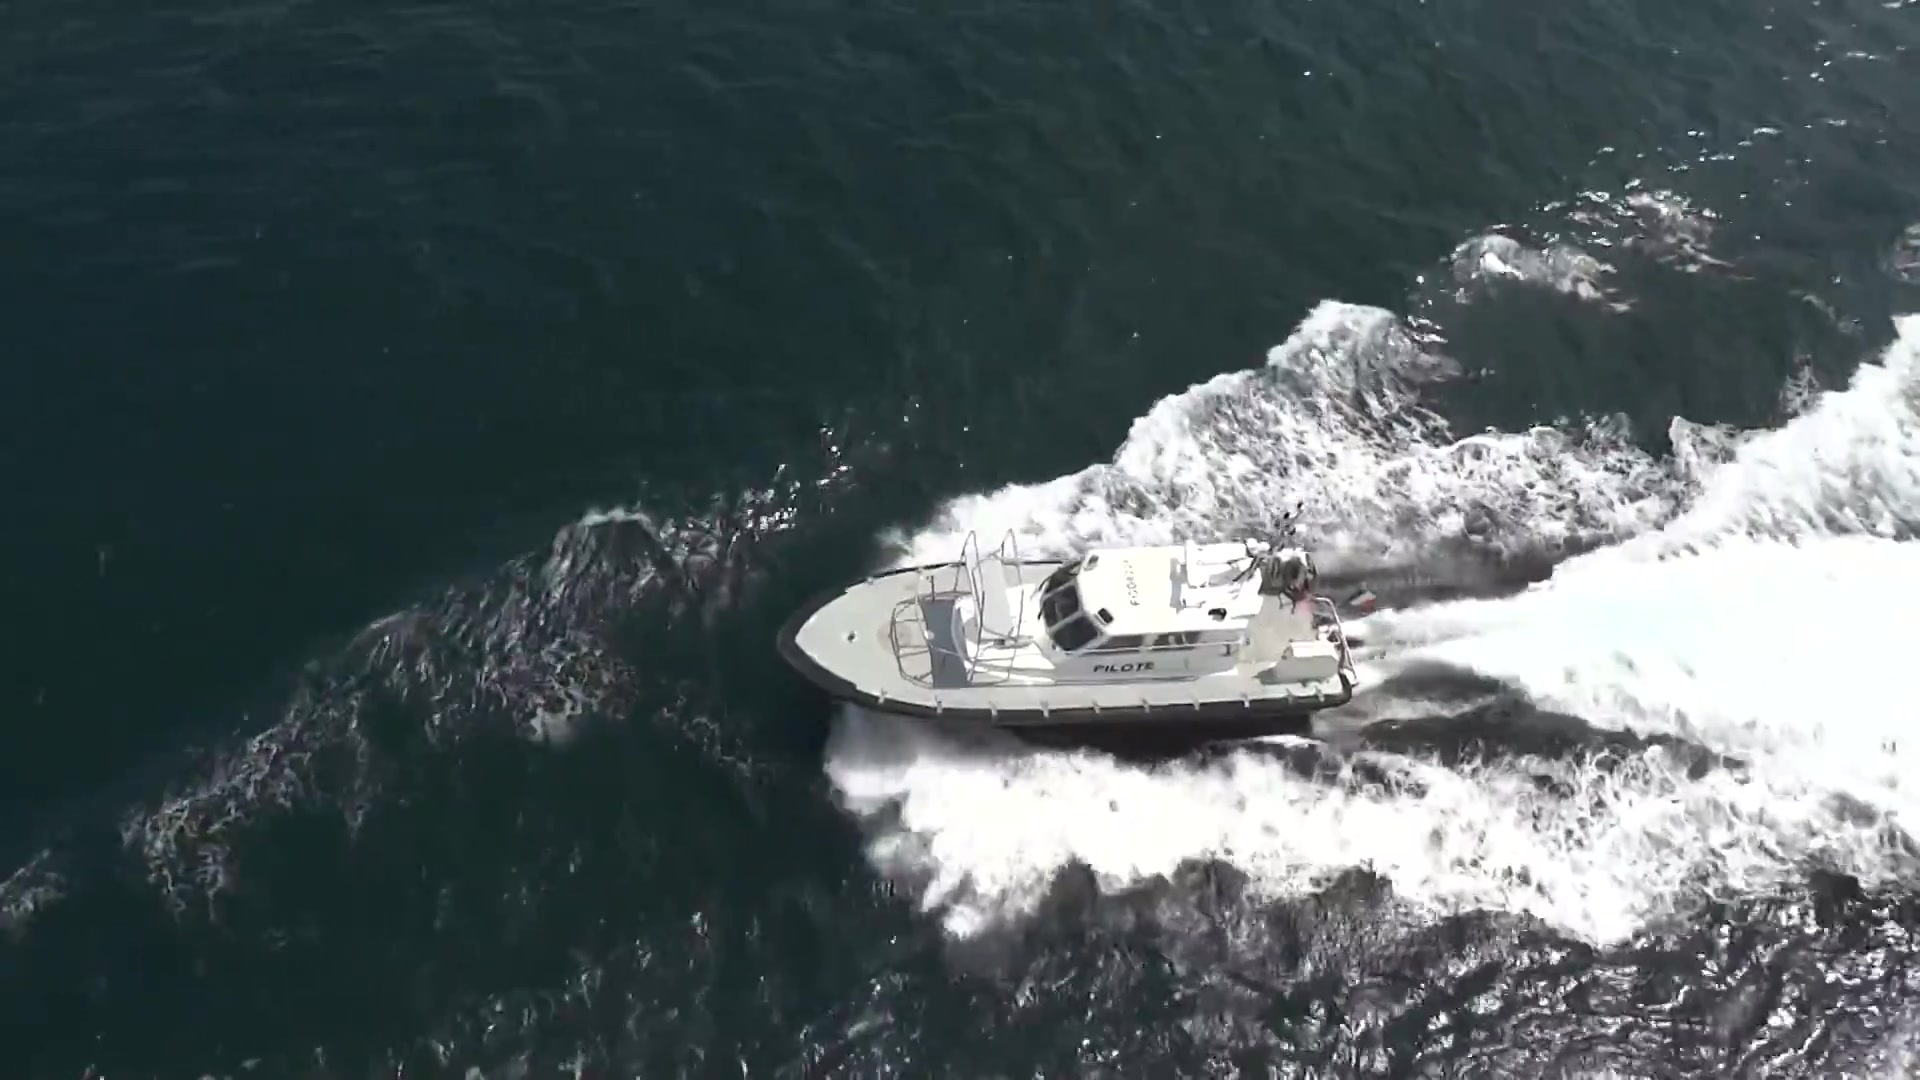WarShip: (769, 509, 1358, 745)
